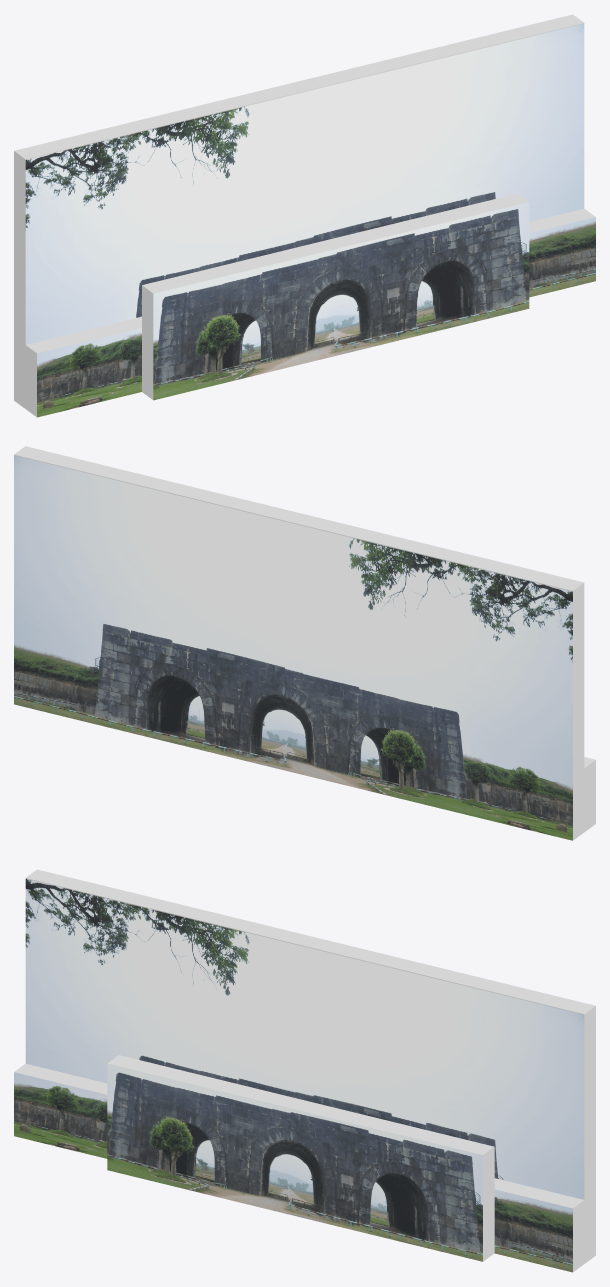
Rendered from thanhnhaHo.glb.
3 renders of one model, top to bottom at view 1: azimuth 30°, elevation 25°; view 2: azimuth 150°, elevation 25°; view 3: azimuth 330°, elevation 25°, orthographic.
Visible parts, largest first — view 1: thanhnhaHo; view 2: thanhnhaHo; view 3: thanhnhaHo.
Boxes of the visible parts, left/top/right/bottom form: thanhnhaHo: left=14, top=14, right=595, bottom=417; thanhnhaHo: left=14, top=446, right=595, bottom=840; thanhnhaHo: left=14, top=869, right=595, bottom=1272.
Bounding box in the file's own units: 6.33 × 2.7 × 0.6795.
1 material, 1 textured.
